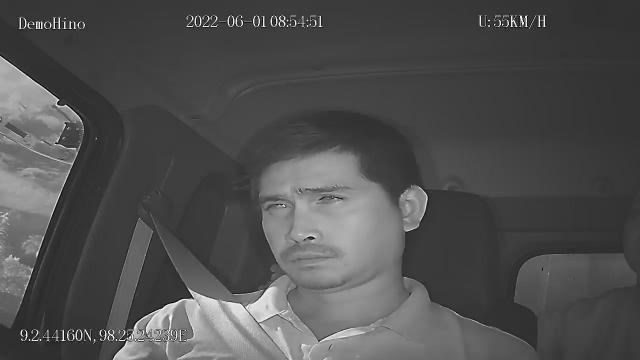SafeDriving: (307, 188, 353, 210), (260, 194, 298, 216)
Seatbelt: (132, 184, 294, 360)
